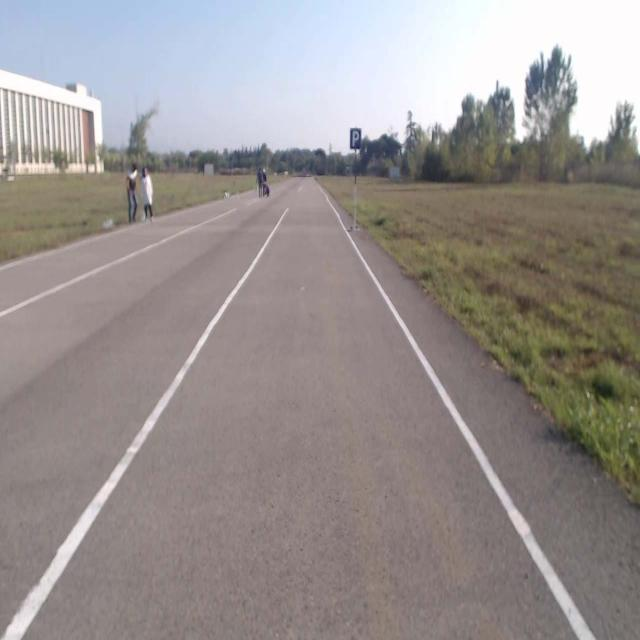park: (350, 128, 360, 149)
